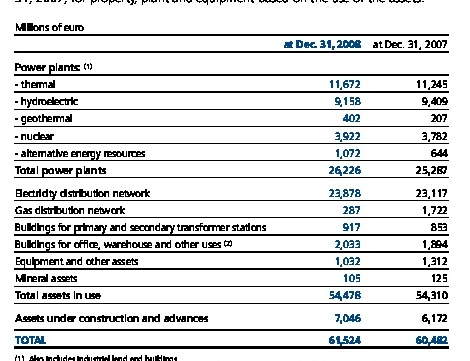table: (0, 0, 470, 361)
